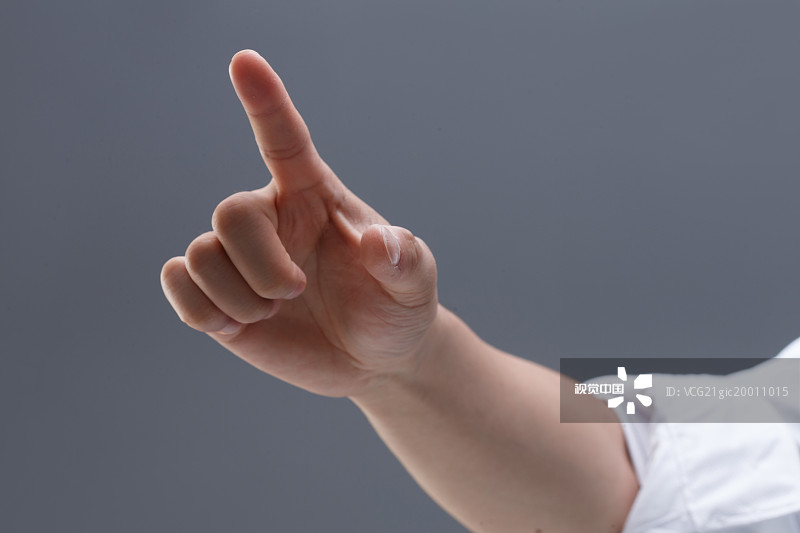no-phone: (129, 18, 447, 419)
